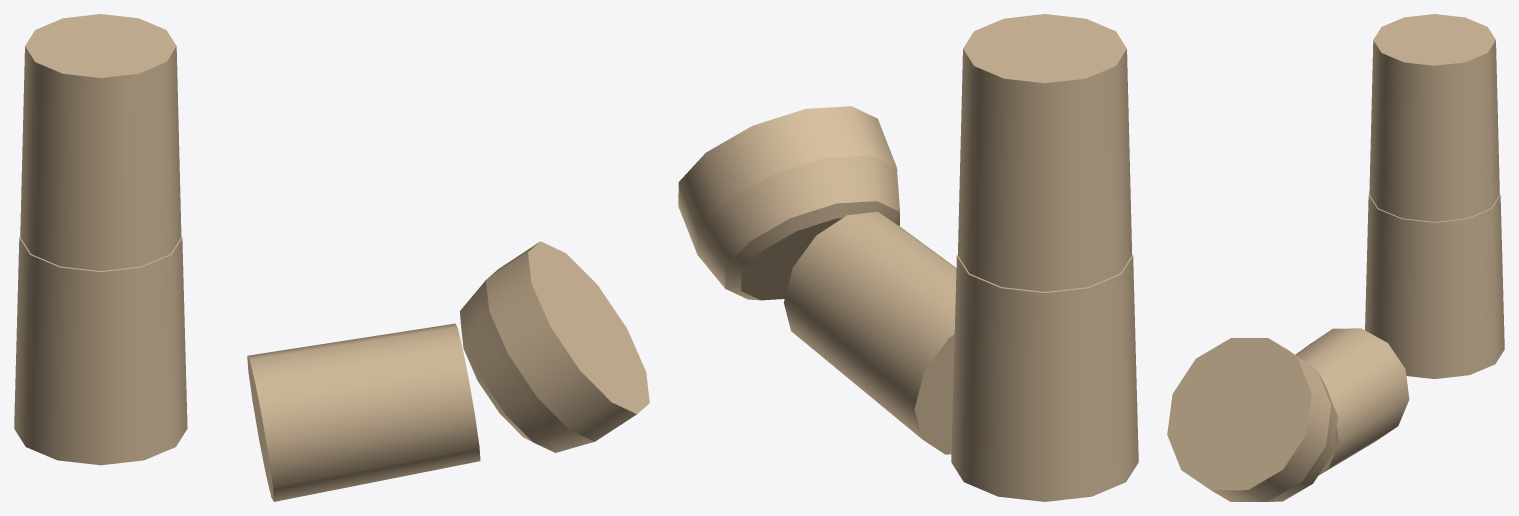
The model's file is egypt_columnfall2.fbx.
3 renders of one model, left to right at view 1: azimuth 30°, elevation 25°; view 2: azimuth 150°, elevation 25°; view 3: azimuth 270°, elevation 25°, orthographic. The views are drawn at different scales.
Parts seen in each view (by area): view 1: pCylinder11, pCylinder12, pCylinder10, pCylinder22; view 2: pCylinder11, pCylinder12, pCylinder22, pCylinder10; view 3: pCylinder11, pCylinder22, pCylinder12, pCylinder10.
Boxes of the visible parts, <box> form: pCylinder11: <box>20,14,181,270</box>; pCylinder12: <box>14,236,187,465</box>; pCylinder10: <box>247,323,480,501</box>; pCylinder22: <box>460,241,649,452</box>; pCylinder11: <box>958,14,1132,291</box>; pCylinder12: <box>951,254,1138,501</box>; pCylinder22: <box>678,106,899,300</box>; pCylinder10: <box>783,211,956,454</box>; pCylinder11: <box>1369,14,1499,221</box>; pCylinder22: <box>1167,338,1337,501</box>; pCylinder12: <box>1365,194,1504,378</box>; pCylinder10: <box>1295,328,1409,475</box>.
Size of the model in its own units: 3.83 by 3.17 by 2.72.
